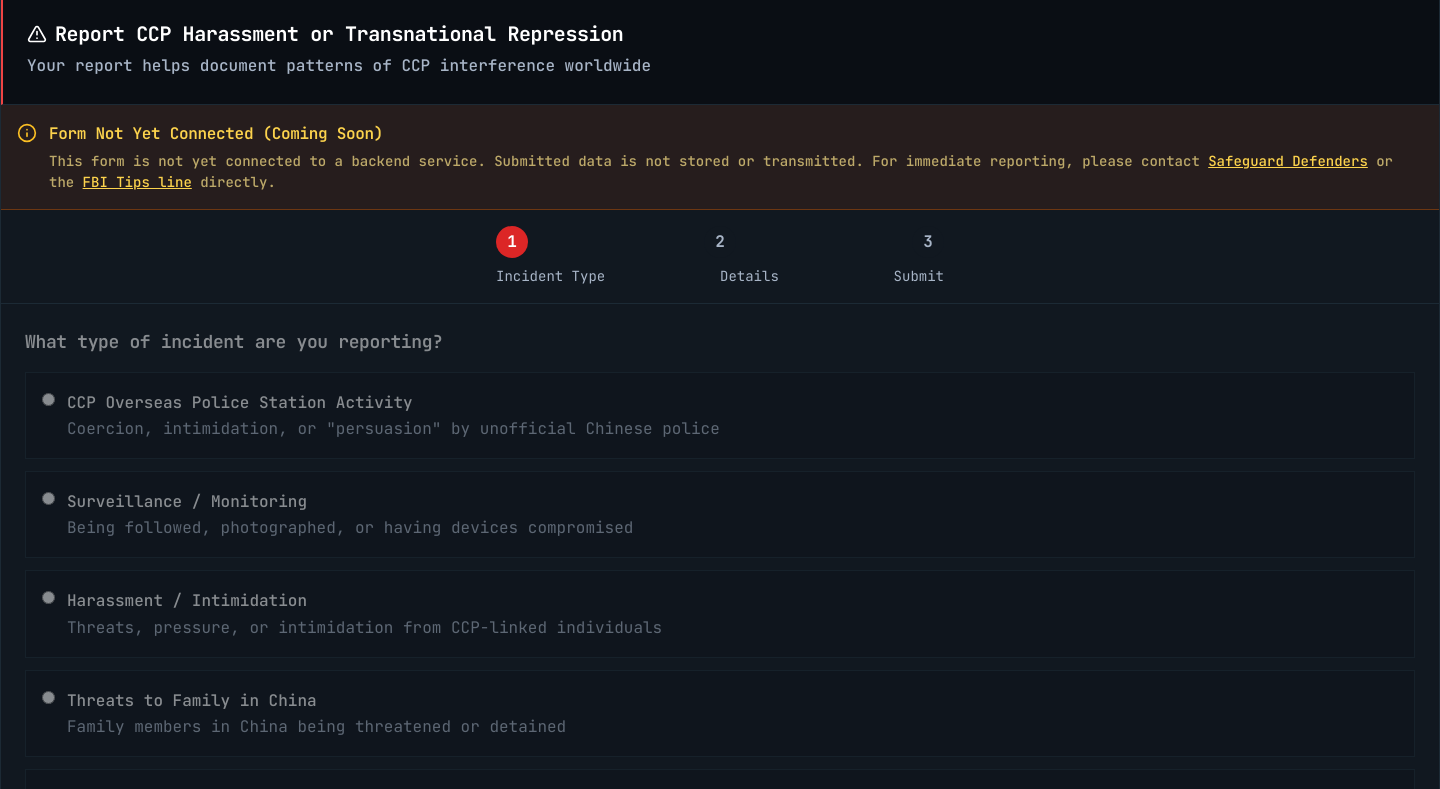
Test: IncidentReportForm › navigates to Step 3 with consent and submit
Click the radio button showing "police_station" at (48, 400), box [42,393,55,406]
(page scrolled)
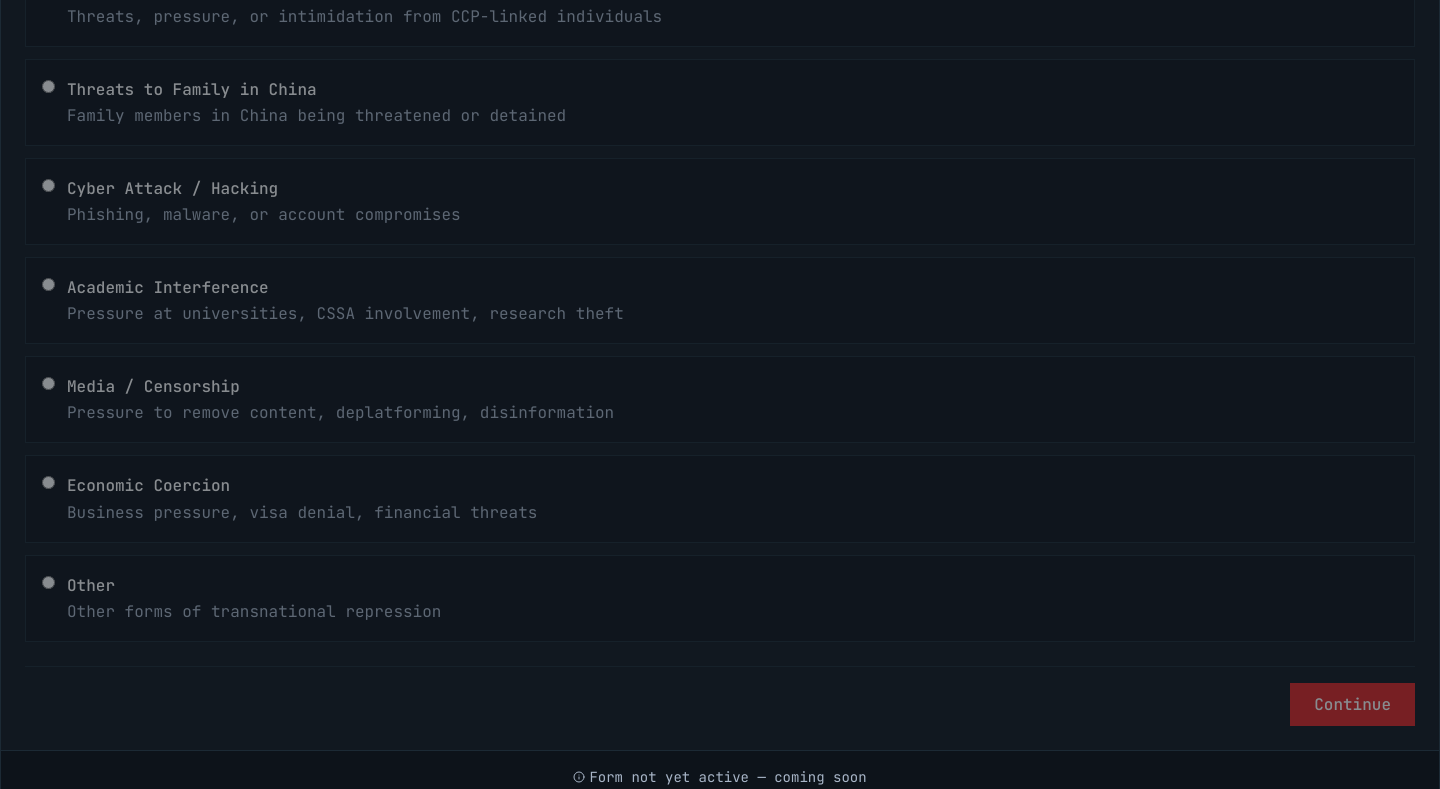
Click the button "Continue" at (1353, 704), box [1290,683,1415,726]
(page scrolled)
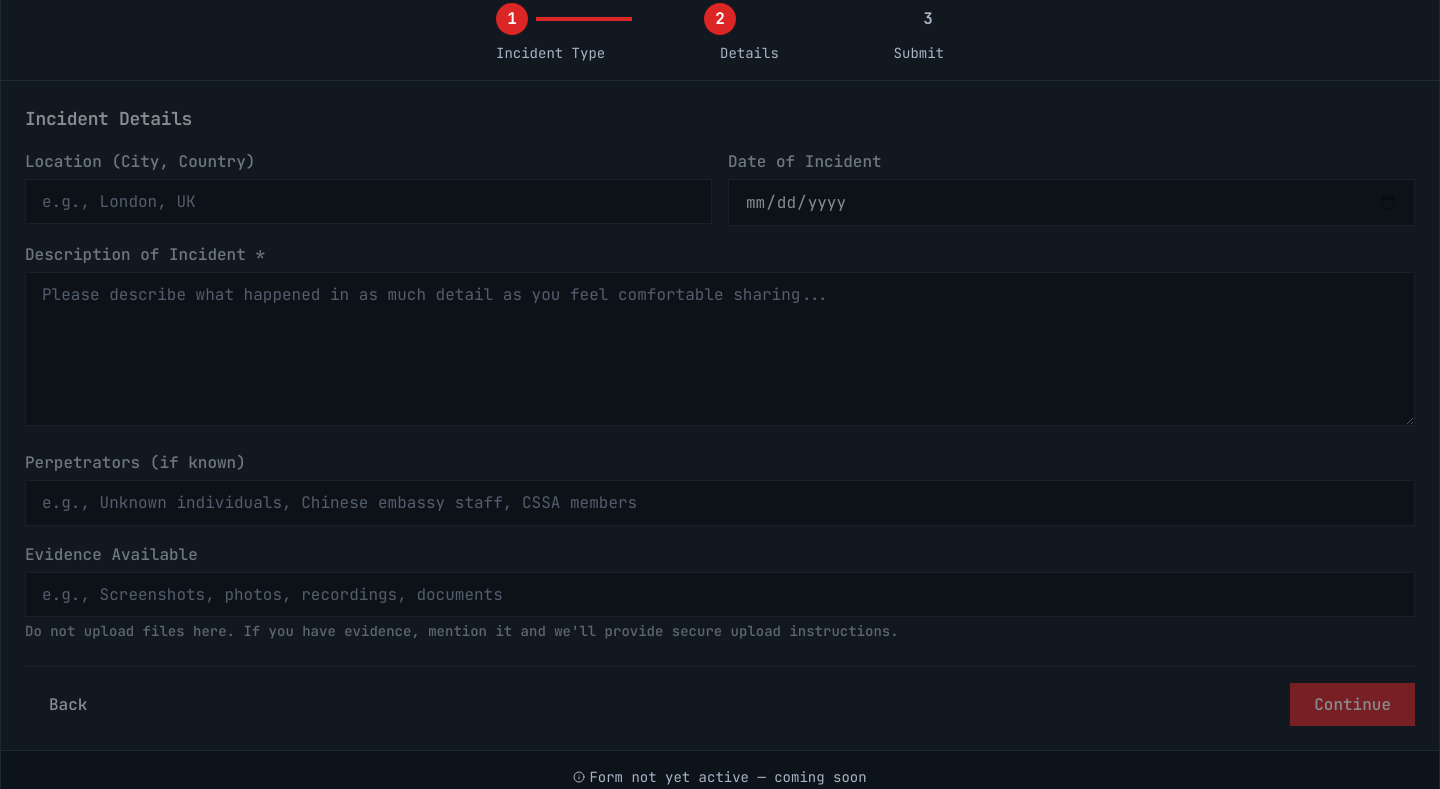
Replace the text in the text box named "Description" with "Observed intimidation tactics" at (720, 349), box [25,272,1415,426]
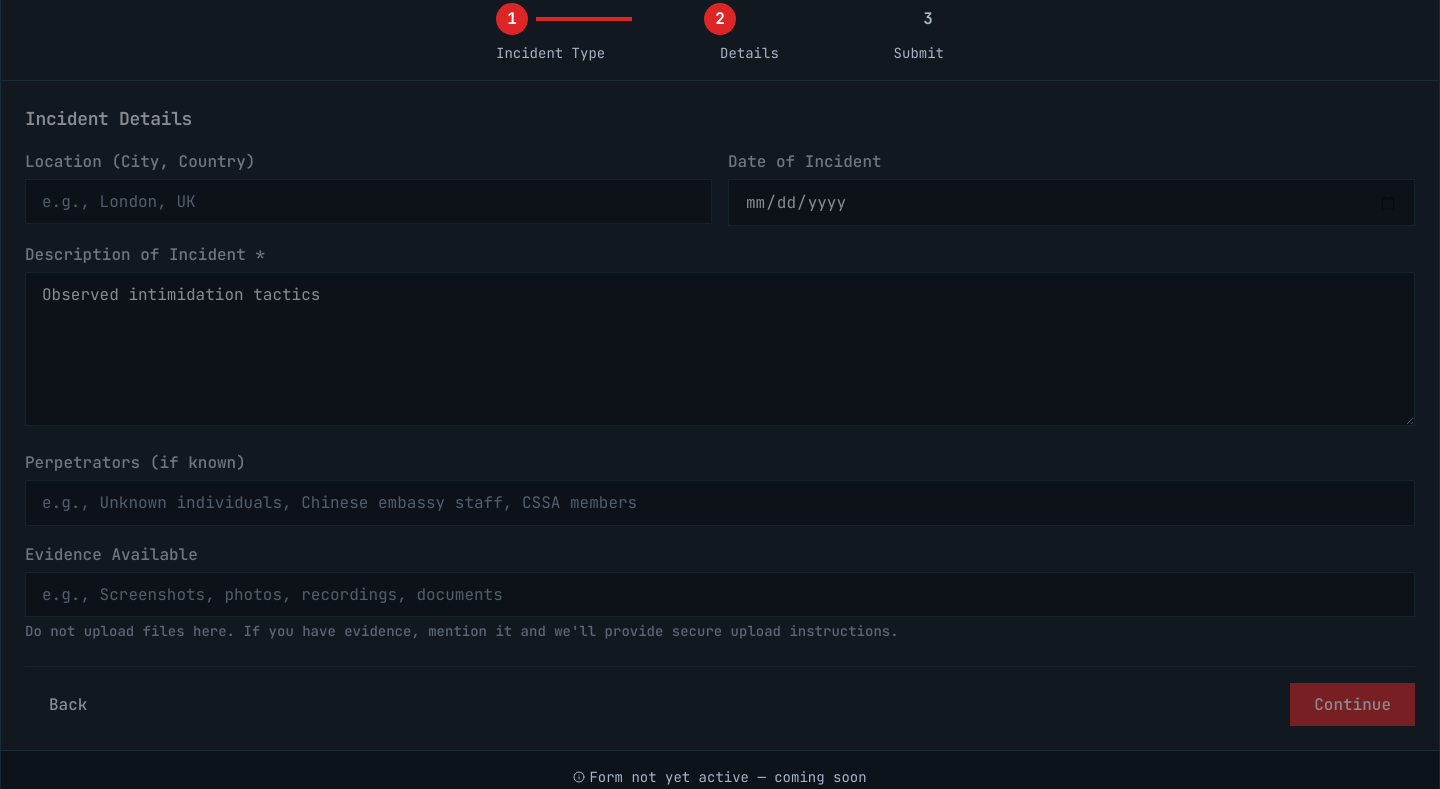
Click the button "Continue" at (1353, 704), box [1290,683,1415,726]
(page scrolled)
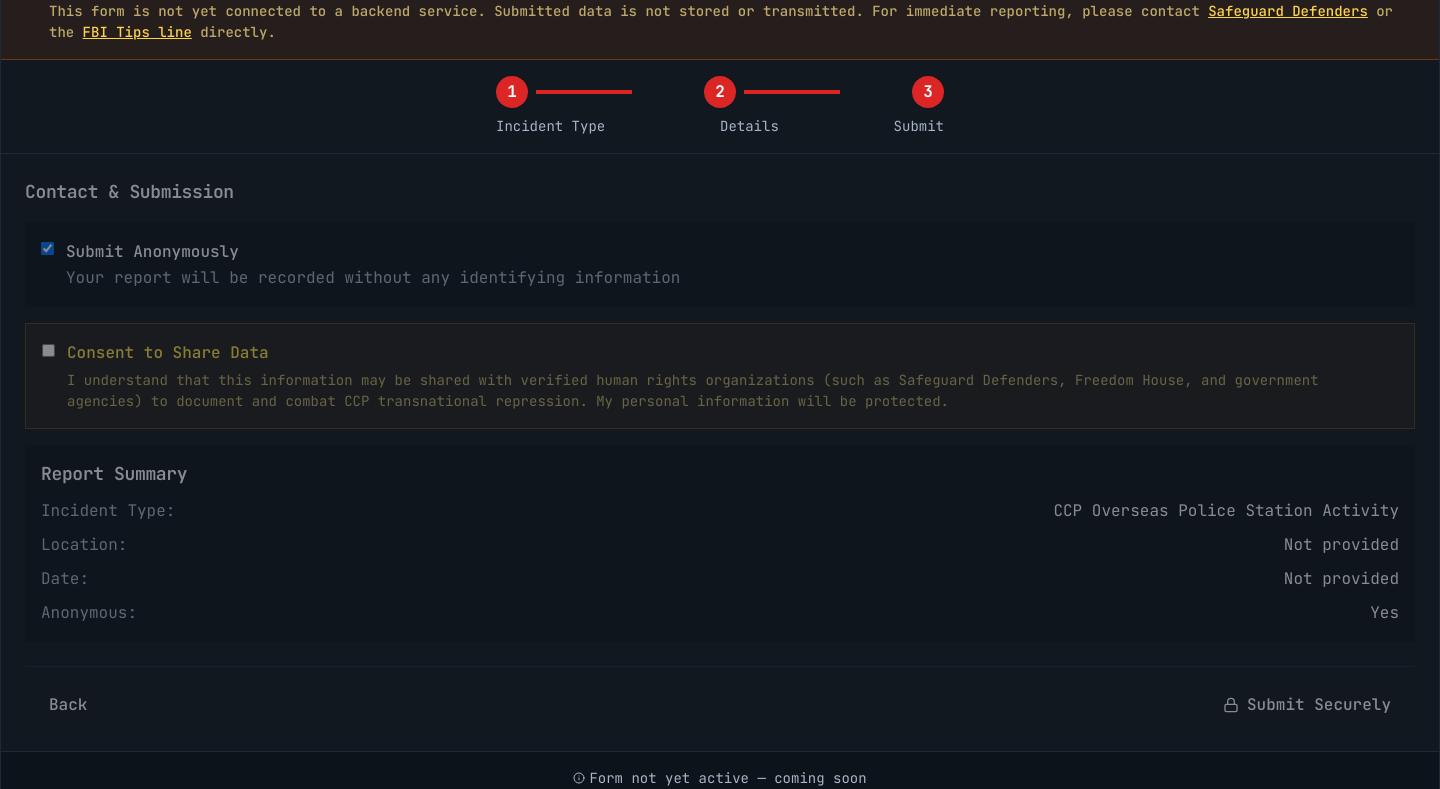
Result: the heading "Contact & Submission" is shown at [25,180,234,203]
Result: the text "Submit Anonymously" is shown at [66,241,239,262]
Result: the text "Consent to Share Data" is shown at [67,342,269,363]
